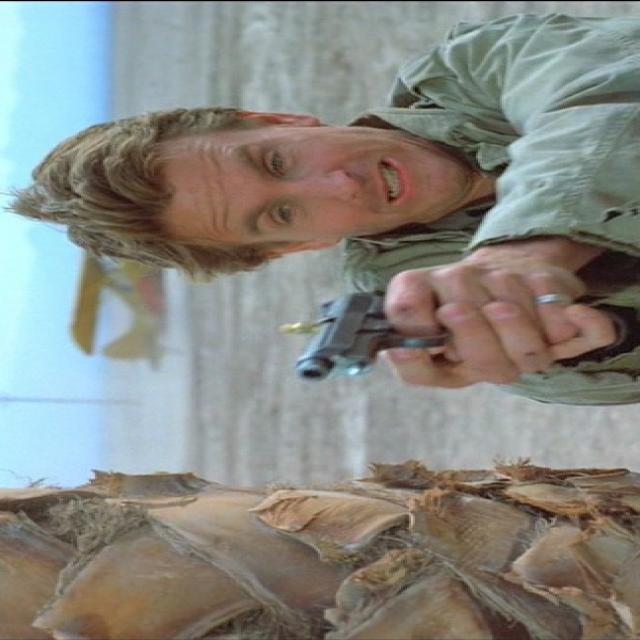weapons: (270, 278, 517, 388)
